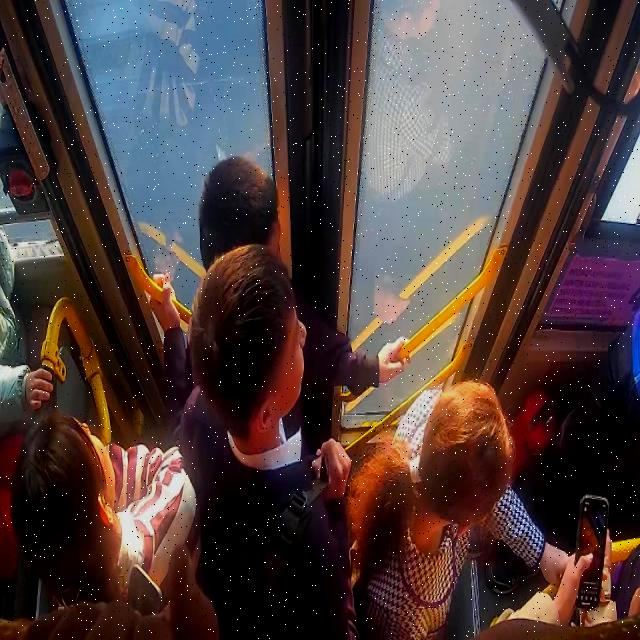close: (63, 3, 566, 489)
